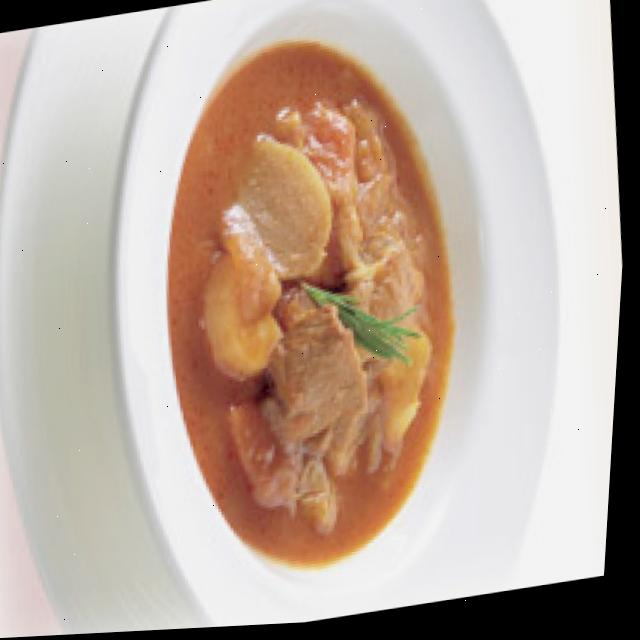汤锅炖物: (65, 0, 617, 636)
